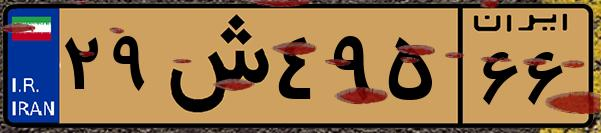2: (57, 26, 110, 100)
4: (270, 28, 330, 110)
5: (385, 28, 445, 110)
6: (475, 38, 525, 113), (525, 38, 570, 115)
9: (330, 28, 385, 110), (110, 28, 158, 98)
ش: (158, 12, 270, 120)
